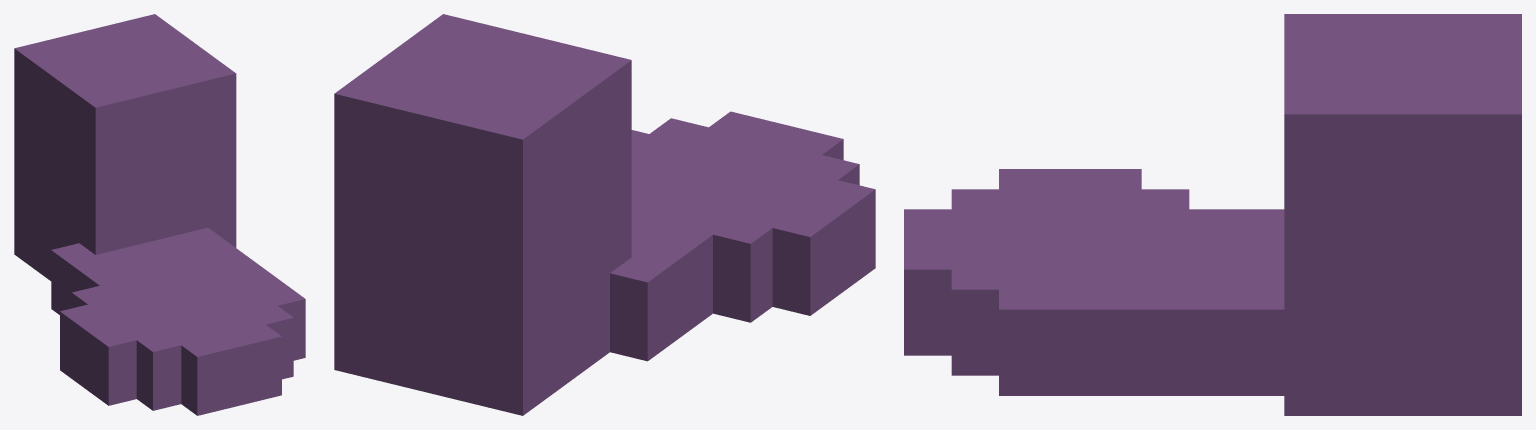
3 views of the same model, side by side, from view 1: azimuth 30°, elevation 25°; view 2: azimuth 150°, elevation 25°; view 3: azimuth 270°, elevation 25° (orthographic). The views are drawn at different scales.
Bounding box in the file's own units: 0.4 × 0.35 × 0.65.
